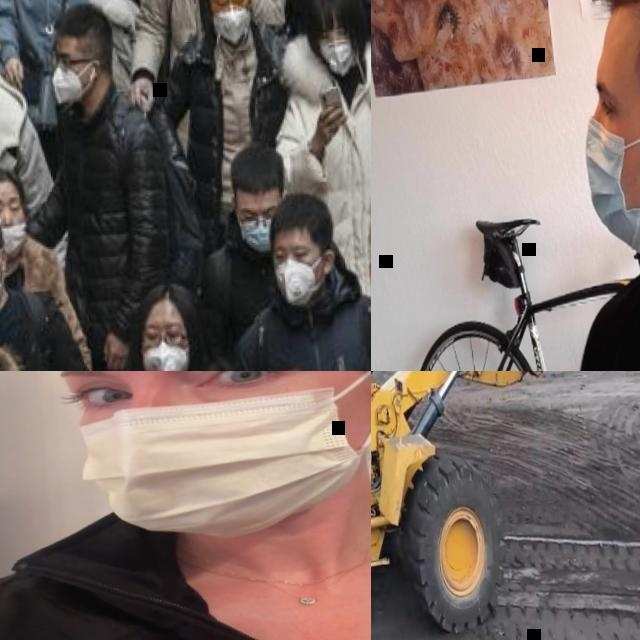Mask: (70, 371, 371, 549), (580, 108, 640, 263), (273, 258, 330, 309), (213, 6, 254, 48), (51, 66, 88, 111), (139, 341, 190, 371), (237, 214, 275, 254), (320, 43, 354, 79), (0, 224, 29, 256)
NO-Hardhat: (270, 193, 339, 244), (226, 143, 286, 200), (51, 0, 113, 45), (140, 279, 192, 320), (301, 0, 356, 31), (0, 164, 16, 198)
NO-Safety Vest: (0, 516, 371, 640), (59, 105, 155, 322), (296, 77, 371, 301), (252, 301, 371, 371), (210, 242, 277, 350), (0, 288, 55, 371), (0, 89, 22, 247), (3, 256, 60, 305)
Person: (0, 371, 371, 640), (10, 0, 182, 371), (508, 0, 640, 371), (266, 0, 371, 371), (145, 0, 297, 244), (219, 187, 371, 371), (128, 0, 297, 155), (187, 143, 301, 360), (0, 157, 97, 371), (0, 0, 68, 289), (0, 0, 131, 128), (0, 194, 94, 371), (99, 271, 234, 371)
machinery: (371, 371, 640, 640)
